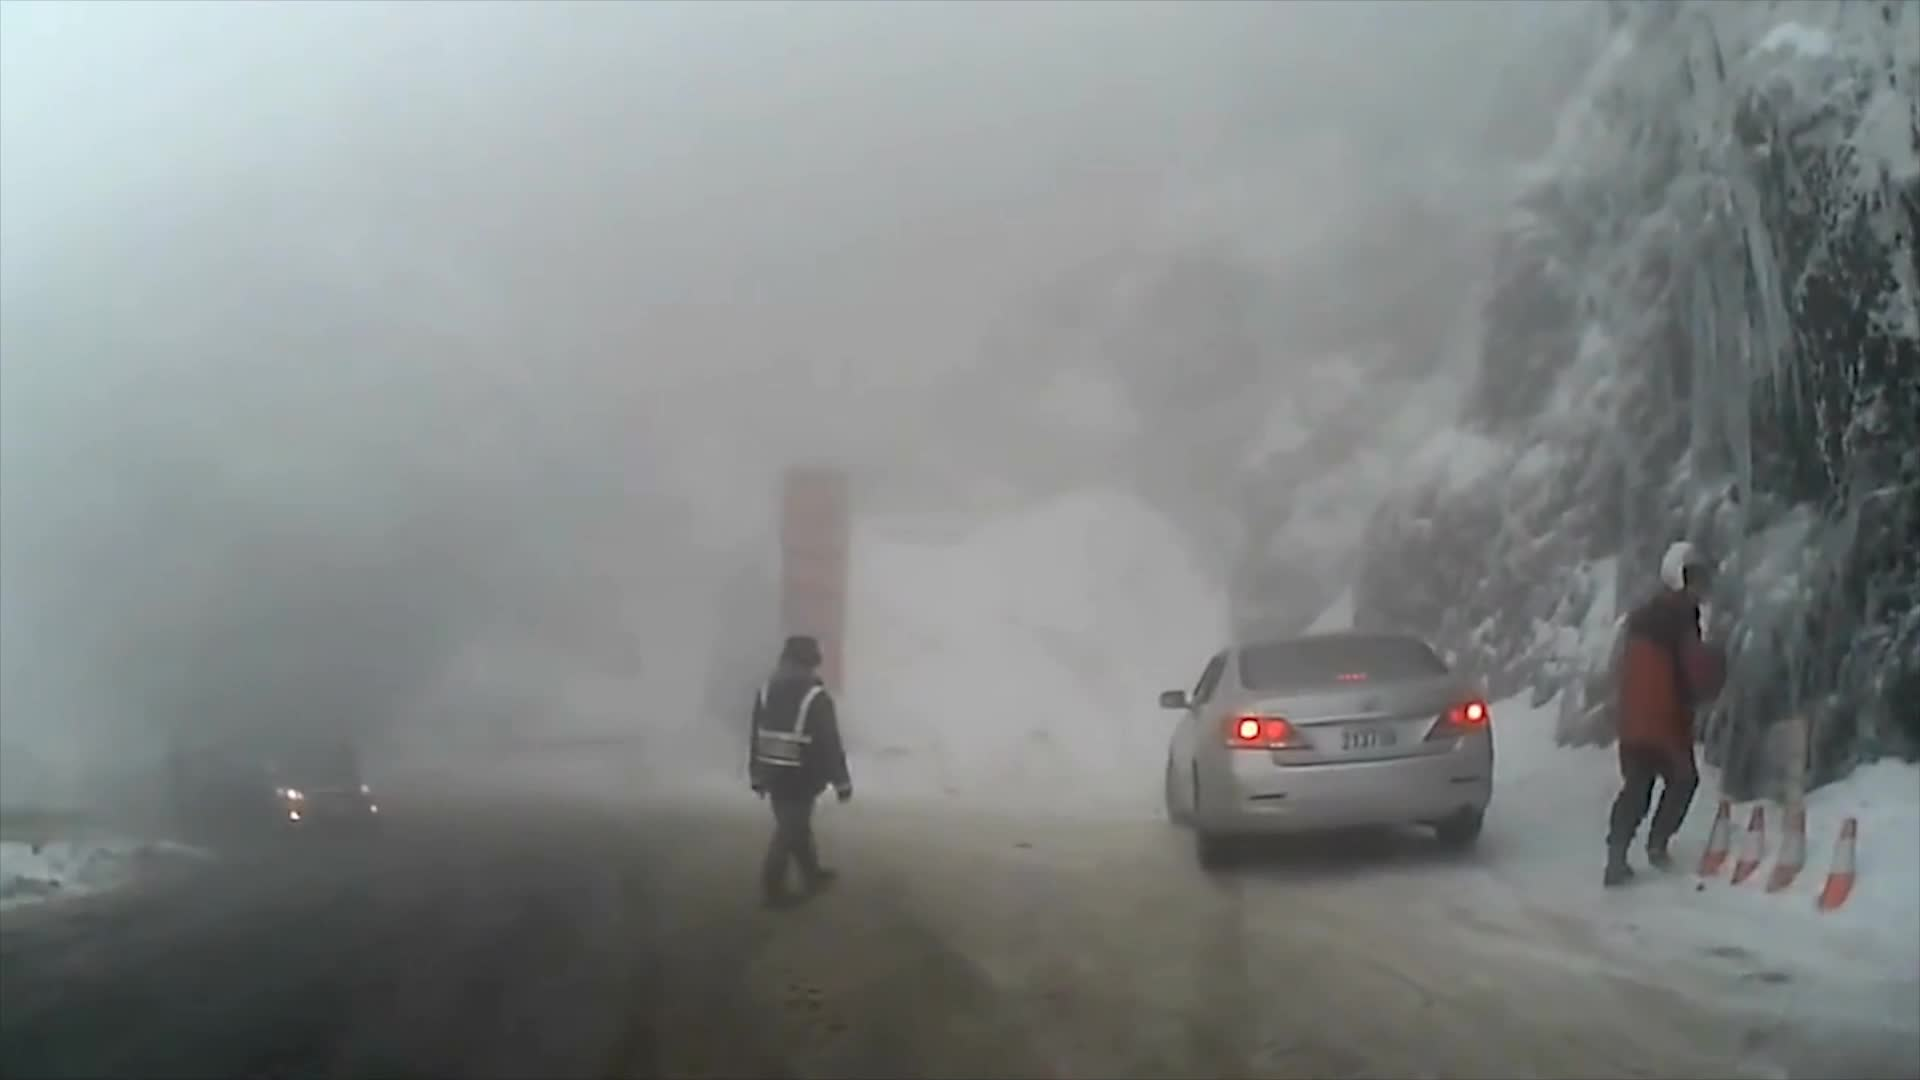pedestrian: (1596, 543, 1736, 887), (750, 637, 858, 910)
vehicle: (1161, 627, 1495, 870)
